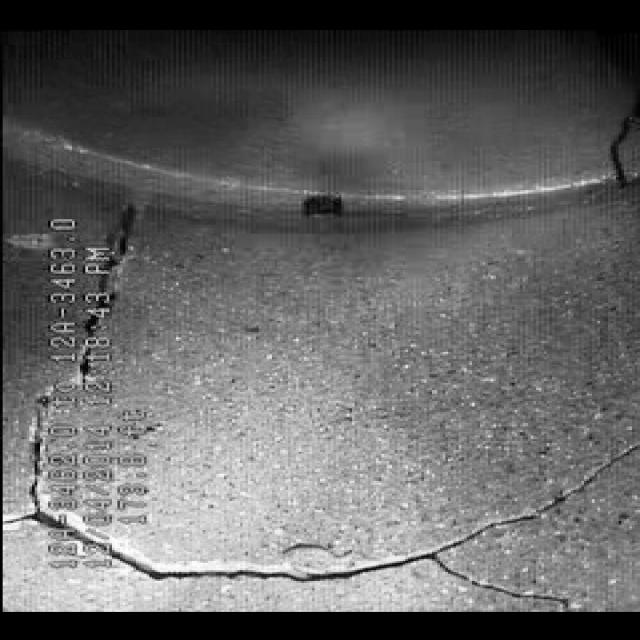Fracture: (158, 434, 588, 606), (17, 218, 122, 528)
